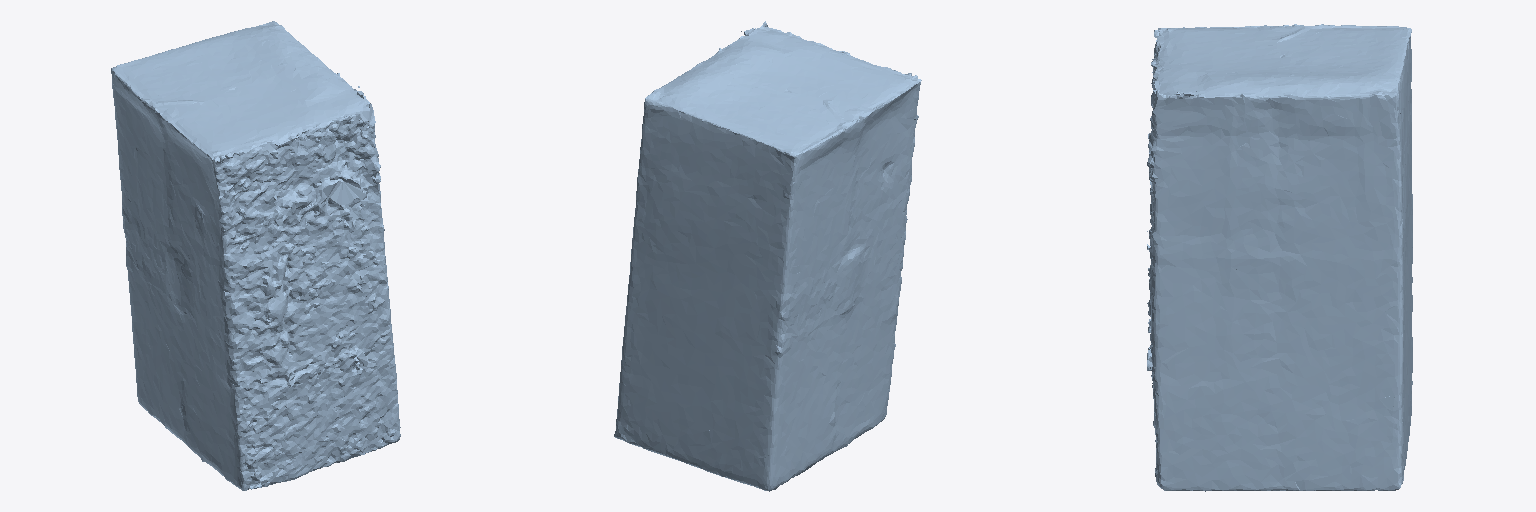
The robot description file, URDF, robot "boxmedium.urdf":
<?xml version="1.0" ?>
<robot name="boxmedium.urdf">
  <dynamics damping="0.5" friction="0.9"/>
  <link name="baseLink">
    <contact>
      <lateral_friction value="0.9"/>
      <rolling_friction value="0.5"/>
      <stiffness value="30000"/>
      <damping value="1000"/>
    </contact>
    <visual>
      <origin rpy="0 0 0" xyz="0 0 0"/>
      <geometry>
        <mesh filename="objects/boxmedium/boxmedium.obj" scale="1.0 1.0 1.0"/>
      </geometry>
       <material name="mat">
        <color rgba="0.7 0.8 0.9 1"/>
      </material>
    </visual>
    <collision>
      <origin rpy="0 0 0" xyz="0 0 0"/>
      <geometry>
         <mesh filename="objects/boxmedium/boxmedium.obj" scale="1.0 1.0 1.0"/>
      </geometry>
    </collision>
  </link>
</robot>

--- What the picture shows (computed from the rendered views, not written in the file) ---
3 views of the same robot in one strip: view 1: azimuth 30°, elevation 25°; view 2: azimuth 150°, elevation 25°; view 3: azimuth 270°, elevation 25° (orthographic).
Robot: boxmedium.urdf — 1 links, 0 joints (none); root link baseLink; default pose: every joint at zero.
Visible links, largest first — view 1: baseLink; view 2: baseLink; view 3: baseLink.
Boxes of the visible links, bbox=[...] form: baseLink: bbox=[111, 21, 400, 490]; baseLink: bbox=[614, 21, 921, 491]; baseLink: bbox=[1147, 24, 1412, 491].
Size in the robot's own frame: 0.2776 by 0.2962 by 0.4971 metres.
Meshes: 1 distinct files referenced, 1 mesh visuals loaded (1 OBJ).
